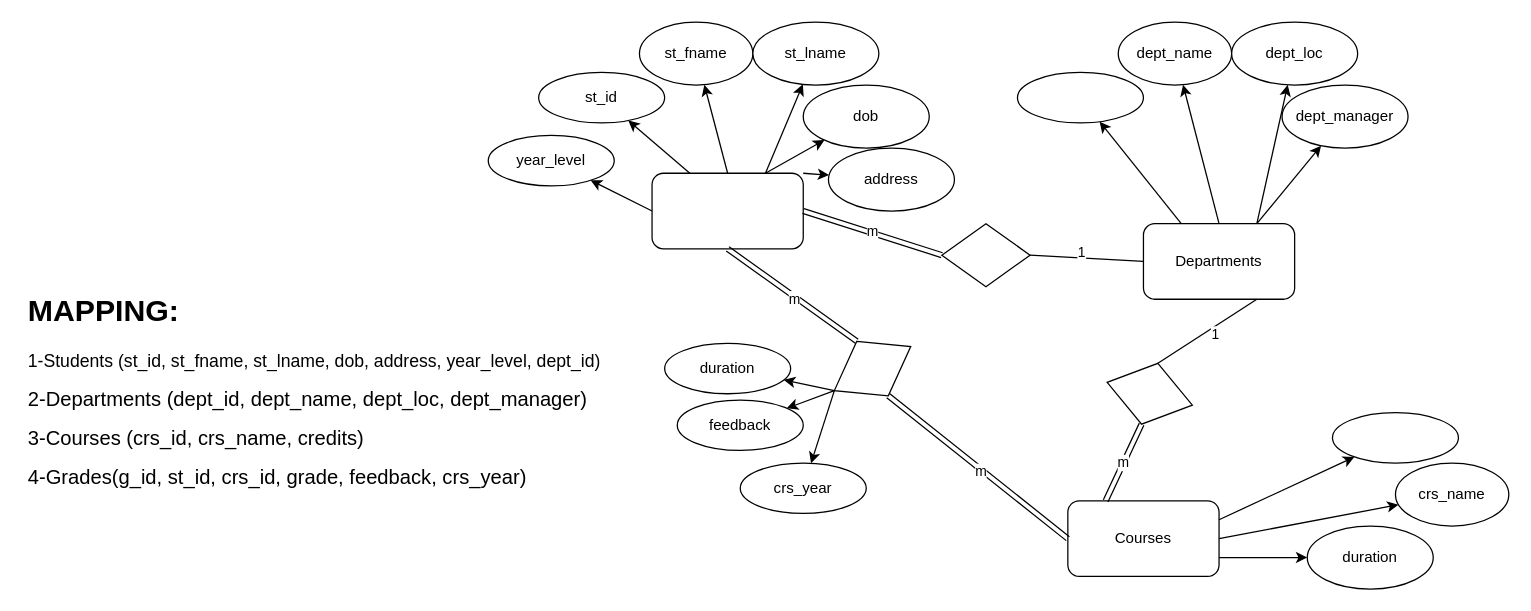
This 1531x611 diagram has some shape labels left out. Each missing label, with the centre of its shape:
"BELONG" belongs at (1149,393).
"crs_id" belongs at (1394,437).
"dept_id" belongs at (1079,97).
"IN" belongs at (985,254).
"Students" belongs at (727,210).
"STUDY" belongs at (872,368).
